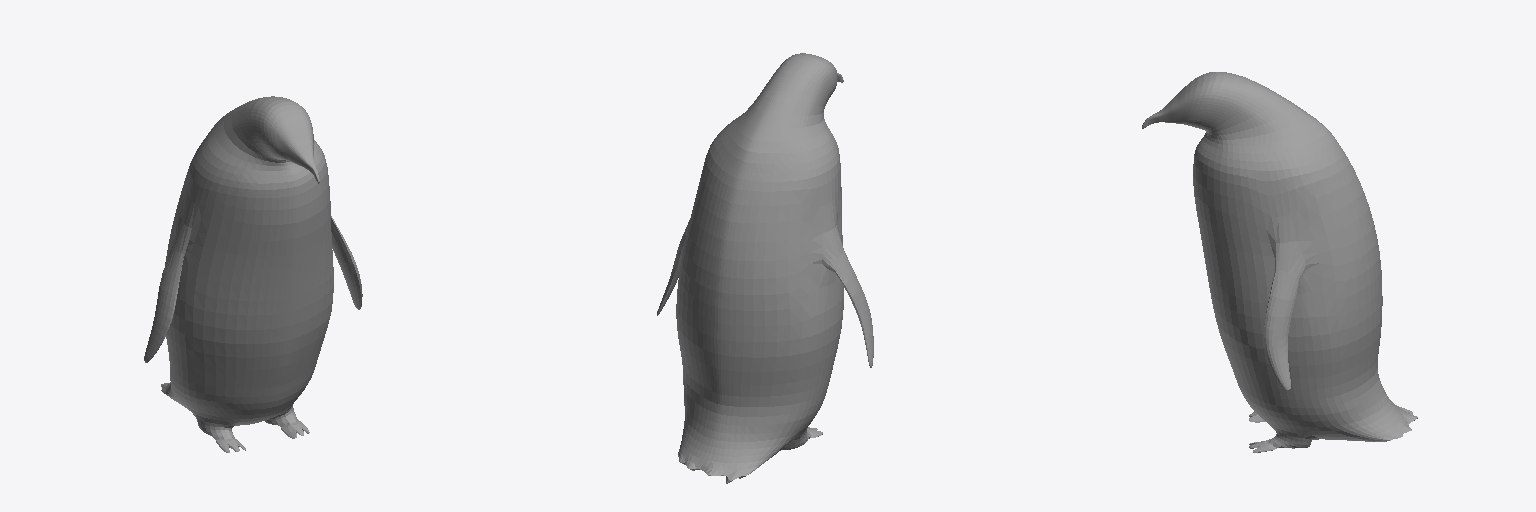
The model's file is pengium.obj.
3 renders of one model, left to right at view 1: azimuth 30°, elevation 25°; view 2: azimuth 150°, elevation 25°; view 3: azimuth 270°, elevation 25°, orthographic.
Visible parts, largest first — view 1: Penguin_Cylinder; view 2: Penguin_Cylinder; view 3: Penguin_Cylinder.
Boxes of the visible parts, x1=… form: Penguin_Cylinder: x1=144, y1=96, x2=362, y2=452; Penguin_Cylinder: x1=657, y1=53, x2=873, y2=483; Penguin_Cylinder: x1=1142, y1=72, x2=1417, y2=452.
Size of the model in its own units: 0.7502 by 1.19 by 0.8357.